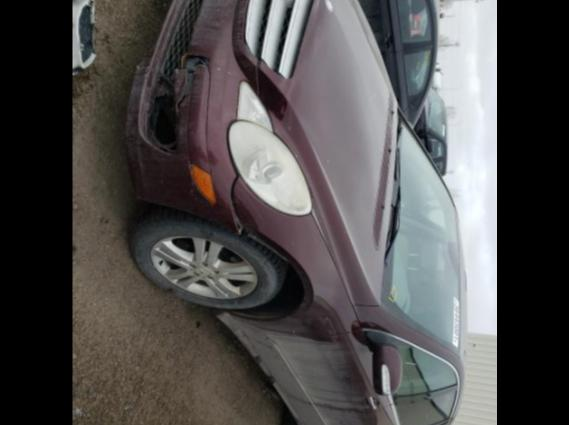Broken part: (125, 0, 287, 257)
Dent: (234, 203, 256, 237), (204, 105, 221, 126)
Missing part: (149, 76, 178, 149)
Scratch: (210, 66, 237, 78)
